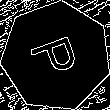P_E: (26, 30, 86, 83)
